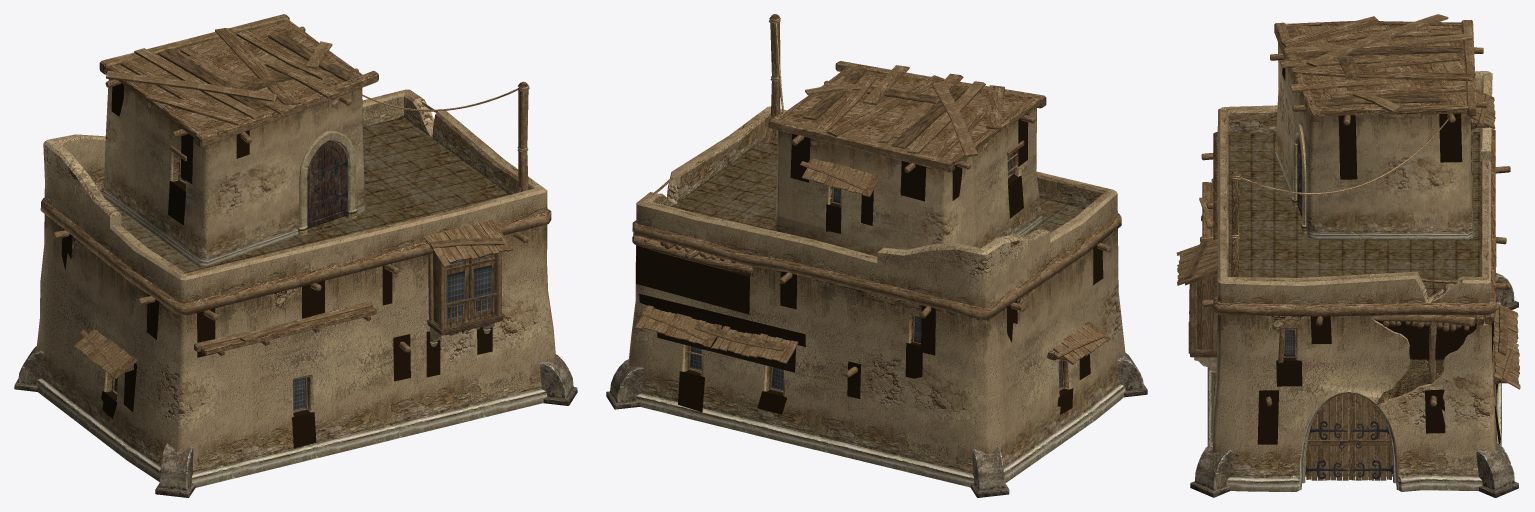
Rendered from oriental_houses_03.fbx.
3 renders of one model, left to right at view 1: azimuth 30°, elevation 25°; view 2: azimuth 150°, elevation 25°; view 3: azimuth 270°, elevation 25°, orthographic. The views are drawn at different scales.
Visible parts, largest first — view 1: house_02_poor_a, house_02_poor_b; view 2: house_02_poor_a, house_02_poor_b; view 3: house_02_poor_a, house_02_poor_b.
Part boxes in pixels (bbox=[...]): house_02_poor_a: bbox=[14, 89, 577, 497]; house_02_poor_b: bbox=[99, 14, 529, 267]; house_02_poor_a: bbox=[606, 106, 1147, 497]; house_02_poor_b: bbox=[764, 14, 1046, 256]; house_02_poor_a: bbox=[1176, 71, 1520, 497]; house_02_poor_b: bbox=[1230, 14, 1495, 277].
Bounding box in the file's own units: 444 × 322 × 318.
